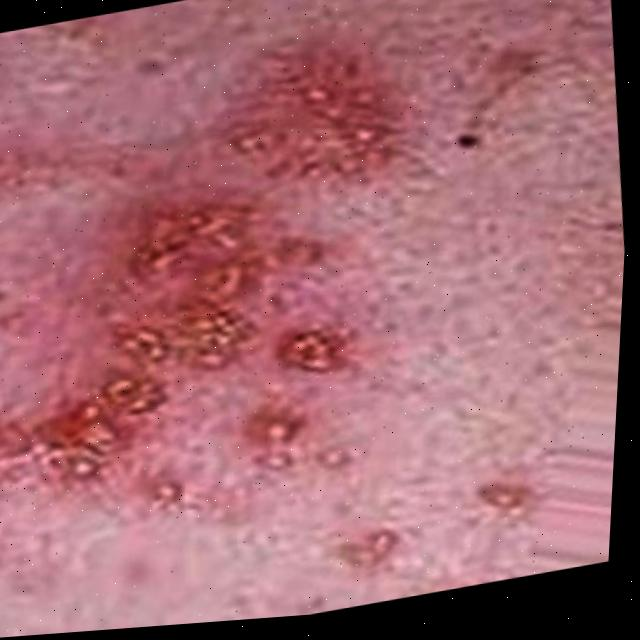Shingles: (0, 38, 429, 541), (343, 529, 404, 569), (475, 483, 518, 523)
